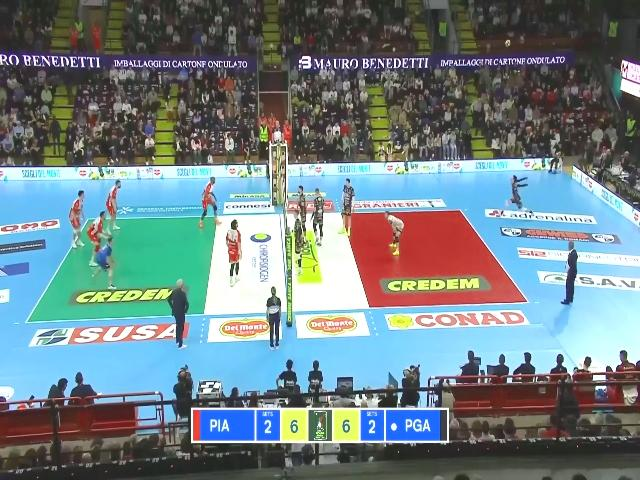volleyball court: (23, 208, 527, 324)
